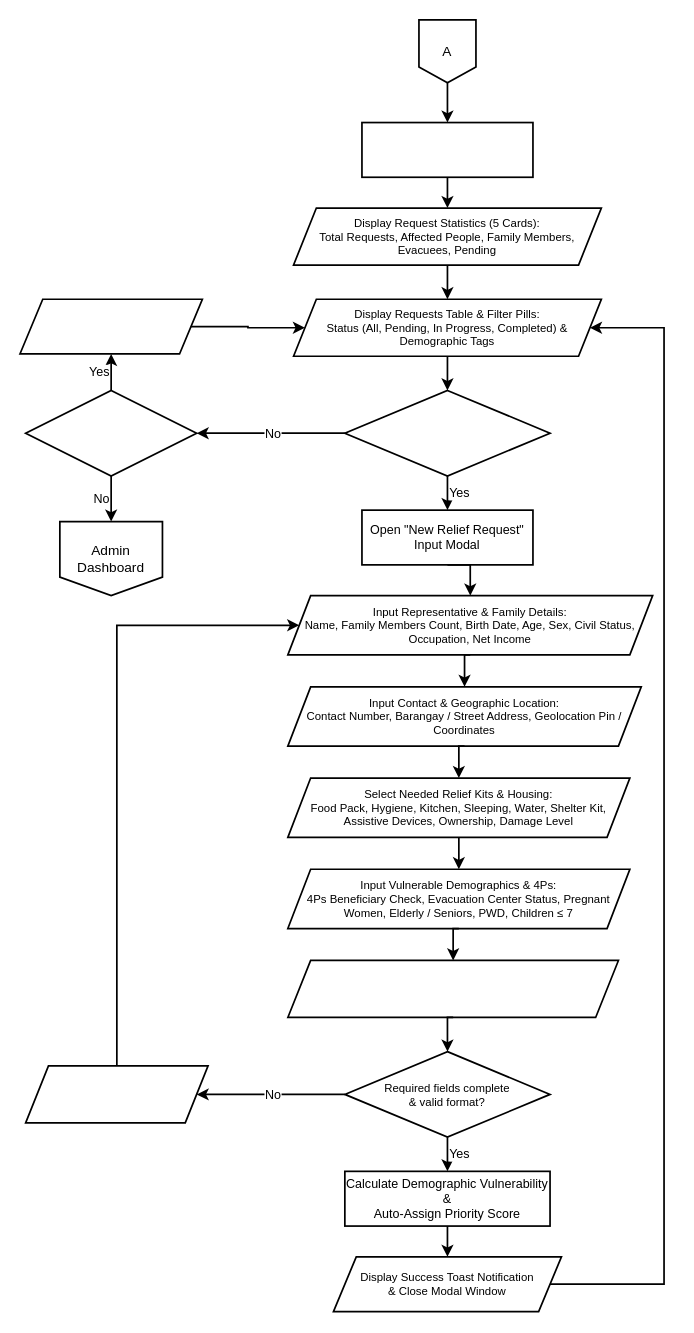
This 694x1333 diagram has some shape labels left out. Each missing label, with the box of its shape:
Click "+ New Relief Request" button?: (343, 389, 550, 476)
Display Filtered Search Results in Table: (19, 298, 203, 354)
Display Form Validation Error Alert Messages: (24, 1065, 208, 1123)
Input Additional Situation Notes (Optional) & Click "+ Create Relief Request": (286, 959, 619, 1018)
Relief Requests Module Main Interface: (361, 121, 533, 178)
Search or filter requests list?: (24, 389, 197, 476)
